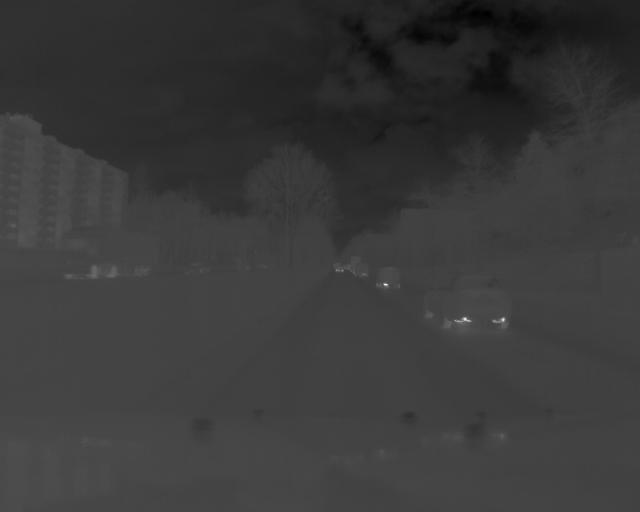car: (59, 227, 165, 284), (420, 270, 515, 332), (374, 263, 403, 291)
